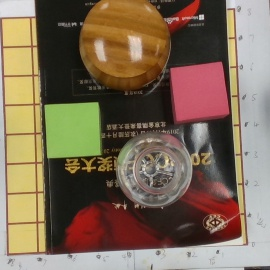bottle: (116, 132, 192, 205)
chess: (77, 1, 172, 89)
